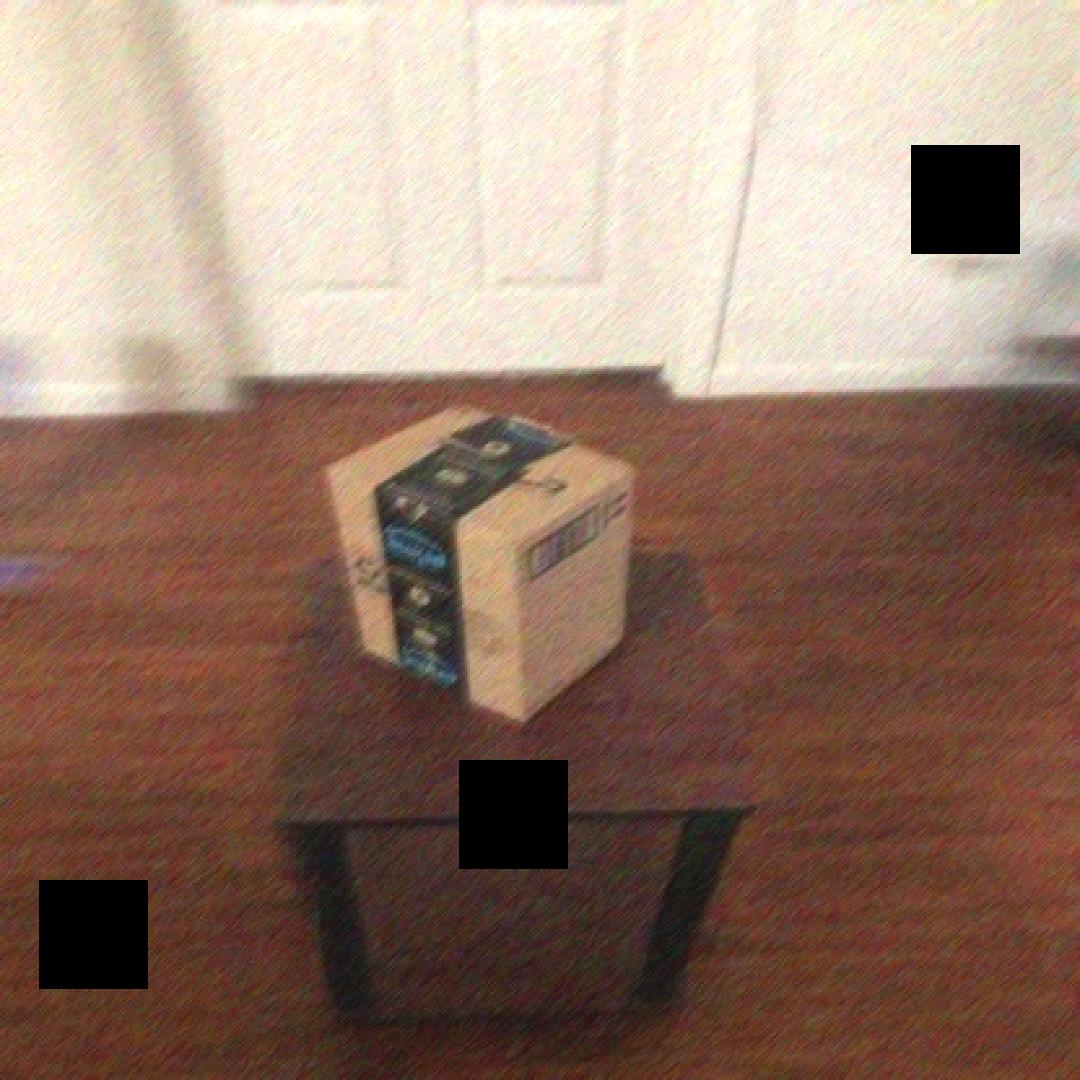package: (322, 395, 639, 737)
